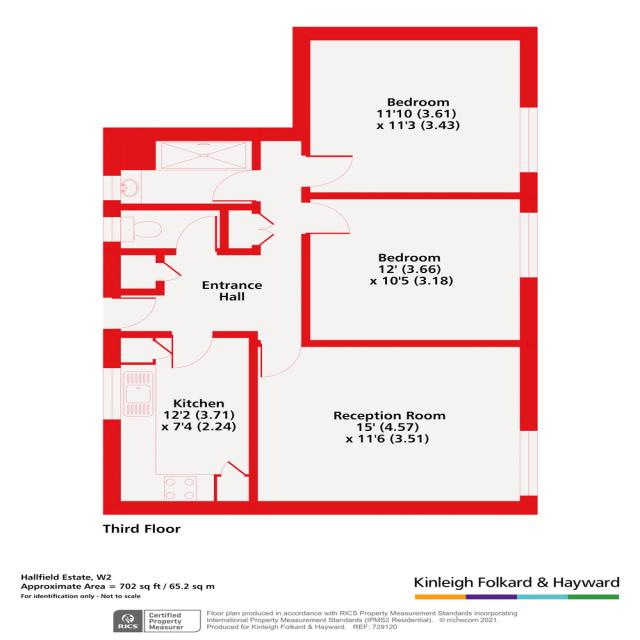DOOR: (301, 152, 358, 191), (103, 295, 162, 332), (169, 331, 217, 371), (173, 214, 219, 255), (258, 340, 304, 380), (301, 201, 352, 237), (210, 168, 261, 203)
ROOM: (248, 337, 537, 515), (292, 27, 538, 198), (303, 191, 537, 347), (102, 328, 259, 515)
WINDOW: (516, 427, 543, 499), (517, 103, 542, 175), (516, 210, 540, 280), (98, 363, 126, 422), (100, 215, 125, 244), (100, 173, 123, 202)
